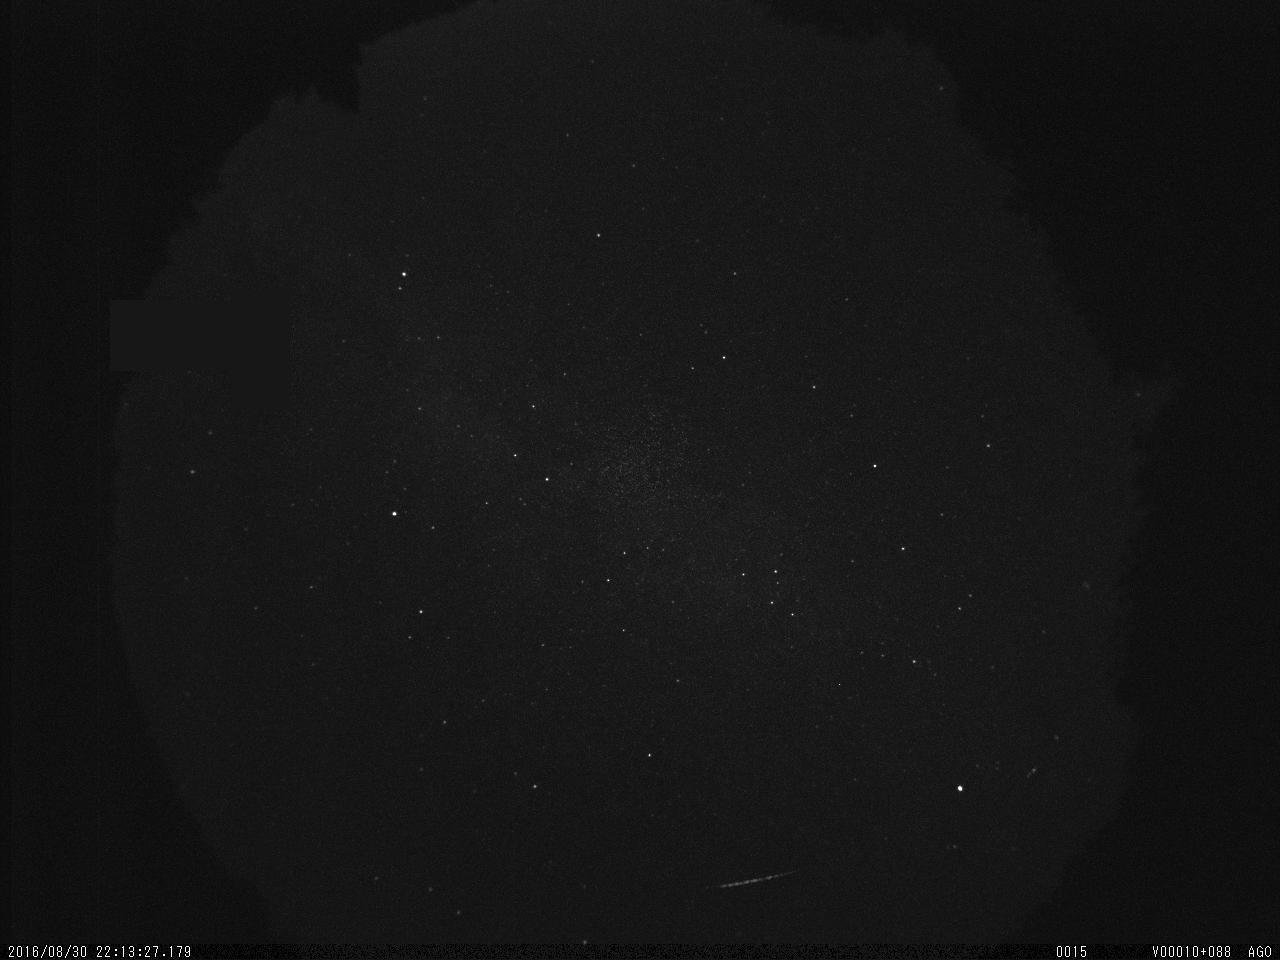meteor: (703, 865, 799, 895)
